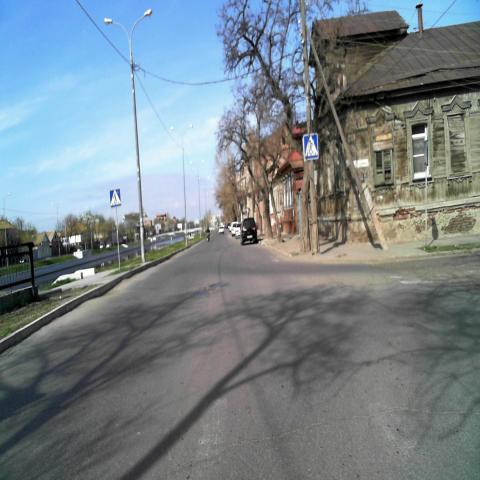5_19_1: (302, 133, 318, 159), (110, 189, 120, 207)
